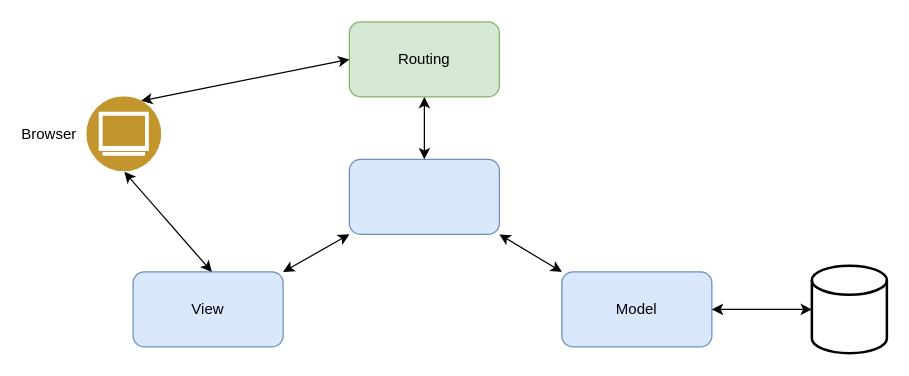
This 909x376 diagram has some shape labels left out. Each missing label, with the centre of its shape:
bidscolDB MySQL: the point at 849,309
Controller: the point at 423,196
